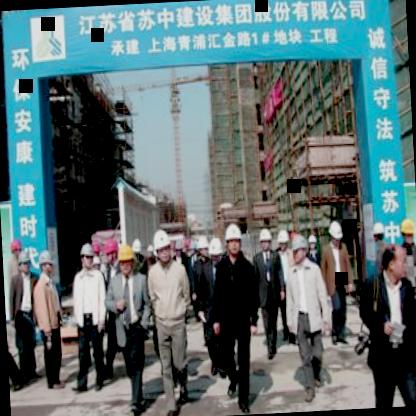head: (378, 242, 412, 284)
helmet: (221, 221, 245, 261), (115, 242, 137, 278), (150, 226, 172, 260), (324, 218, 346, 250), (396, 214, 416, 249), (290, 230, 310, 262), (38, 246, 57, 276), (207, 235, 224, 266), (274, 223, 290, 254), (256, 226, 273, 254), (18, 246, 34, 275), (102, 234, 118, 263), (80, 241, 96, 269), (370, 215, 386, 243), (196, 230, 211, 258), (4, 238, 22, 260)
